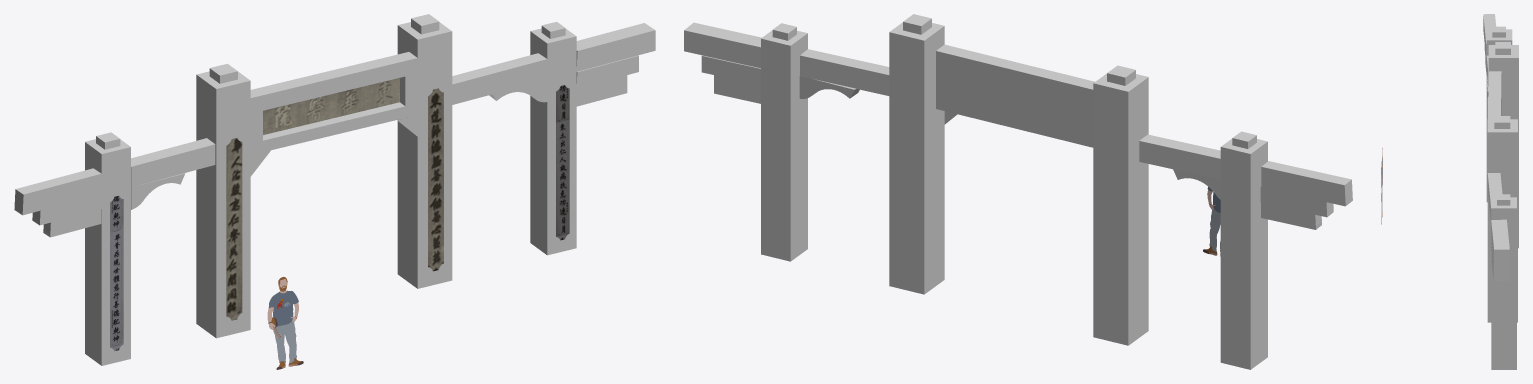
The model's file is tung-wah-archway-after1933.glb.
The picture shows the model from 3 angles, left to right: view 1: azimuth 30°, elevation 25°; view 2: azimuth 150°, elevation 25°; view 3: azimuth 270°, elevation 25°; orthographic projection. The views are drawn at different scales.
Visible parts, largest first — view 1: mesh_0_ROOT_Layer0_255_255_255_ds, mesh_4_ROOT_Layer0_178_173_159_ss, mesh_1_ROOT_Layer0_150_144_131_ss, mesh_3_ROOT_Layer0_140_134_122_ss, mesh_5_ROOT_Layer0_154_155_159_ss, mesh_6_ROOT_Layer0_129_127_126_ss, mesh_12_ROOT__Ty_Layer0_48_62_87_ds, mesh_20_ROOT__Ty_Layer0_117_131_150_ds; view 2: mesh_0_ROOT_Layer0_255_255_255_ds; view 3: mesh_0_ROOT_Layer0_255_255_255_ds.
Part boxes in pixels (x1=…): mesh_0_ROOT_Layer0_255_255_255_ds: x1=14, y1=14, x2=655, y2=365; mesh_4_ROOT_Layer0_178_173_159_ss: x1=263, y1=78, x2=399, y2=134; mesh_1_ROOT_Layer0_150_144_131_ss: x1=226, y1=138, x2=242, y2=320; mesh_3_ROOT_Layer0_140_134_122_ss: x1=428, y1=88, x2=443, y2=271; mesh_5_ROOT_Layer0_154_155_159_ss: x1=110, y1=195, x2=123, y2=351; mesh_6_ROOT_Layer0_129_127_126_ss: x1=556, y1=85, x2=569, y2=240; mesh_12_ROOT__Ty_Layer0_48_62_87_ds: x1=268, y1=290, x2=298, y2=326; mesh_20_ROOT__Ty_Layer0_117_131_150_ds: x1=273, y1=305, x2=296, y2=362; mesh_0_ROOT_Layer0_255_255_255_ds: x1=684, y1=14, x2=1352, y2=369; mesh_0_ROOT_Layer0_255_255_255_ds: x1=1483, y1=14, x2=1518, y2=369.
Bounding box in the file's own units: 68500 × 26426 × 16717.
21 materials, 5 textured.
